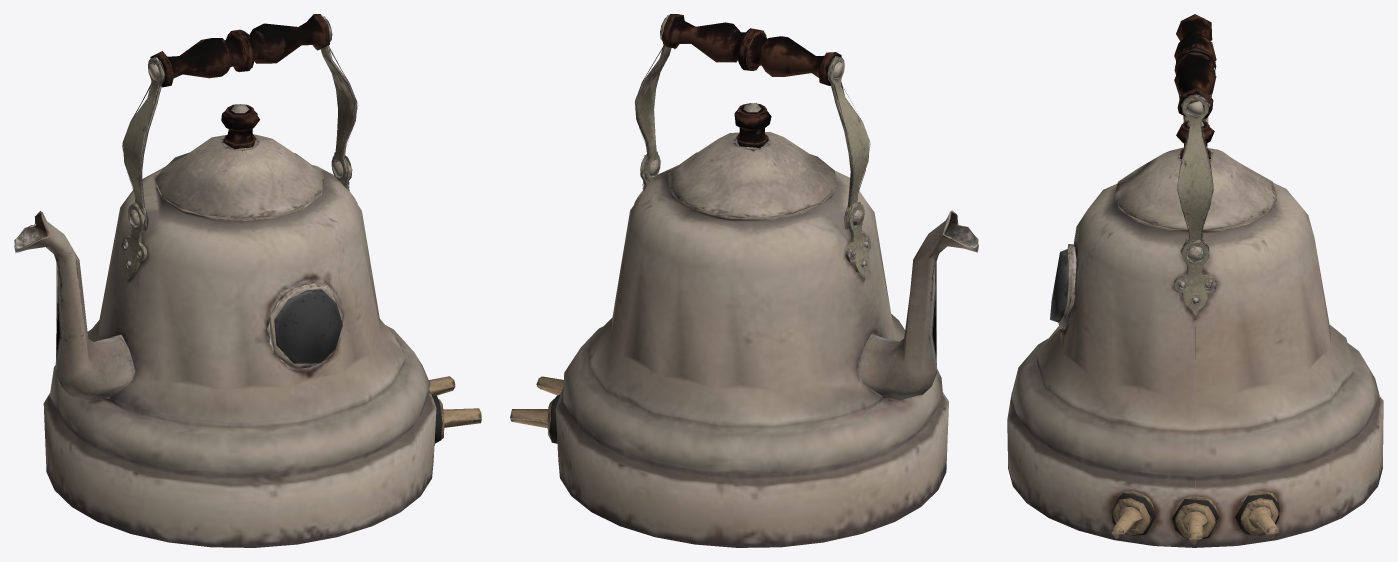
Rendered from vintage_electric_kettle.glb.
3 renders of one model, left to right at view 1: azimuth 30°, elevation 25°; view 2: azimuth 150°, elevation 25°; view 3: azimuth 270°, elevation 25°, orthographic. The views are drawn at different scales.
Parts seen in each view (by area): view 1: vintage_electric_kettle; view 2: vintage_electric_kettle; view 3: vintage_electric_kettle.
Part boxes in pixels (left/top/right/bottom): vintage_electric_kettle: left=14, top=14, right=481, bottom=547; vintage_electric_kettle: left=510, top=14, right=978, bottom=547; vintage_electric_kettle: left=1007, top=14, right=1383, bottom=547.
Size of the model in its own units: 0.321 by 0.3059 by 0.2478.
2 materials, 2 textured.
